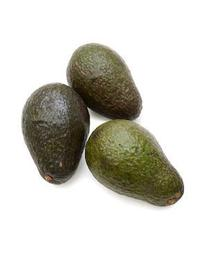avocado: (84, 121, 186, 207), (21, 83, 91, 187), (66, 43, 144, 120)
